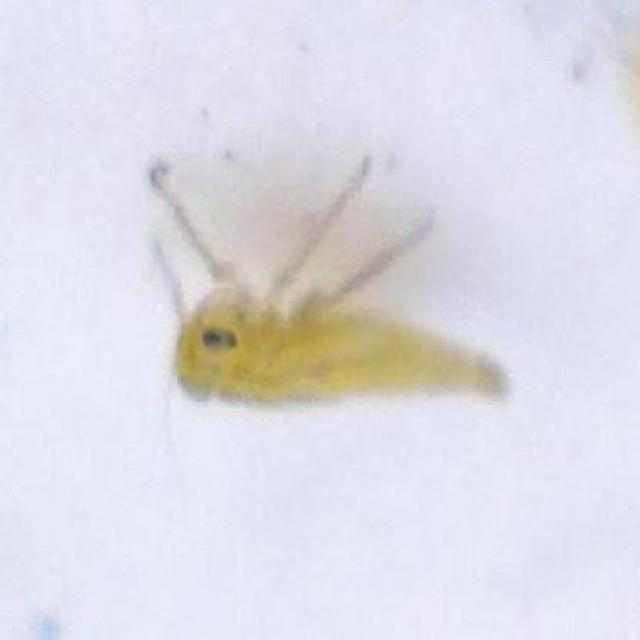green-leafhopper: (163, 250, 517, 418)
